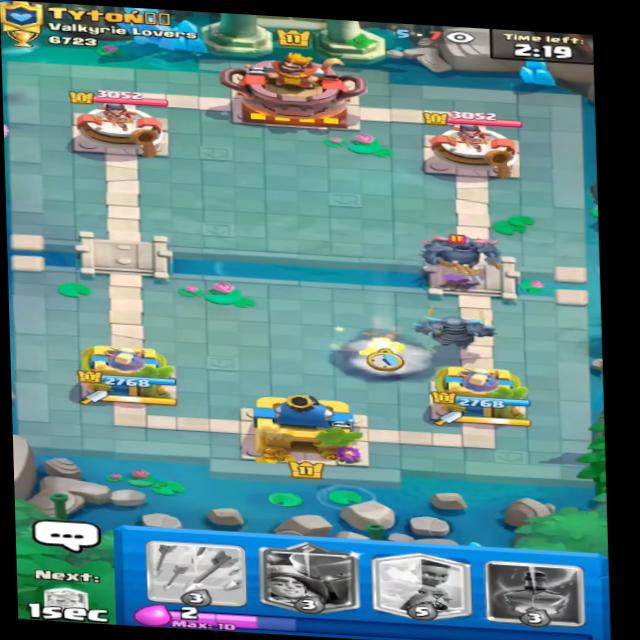pekka: (418, 228, 510, 278)
